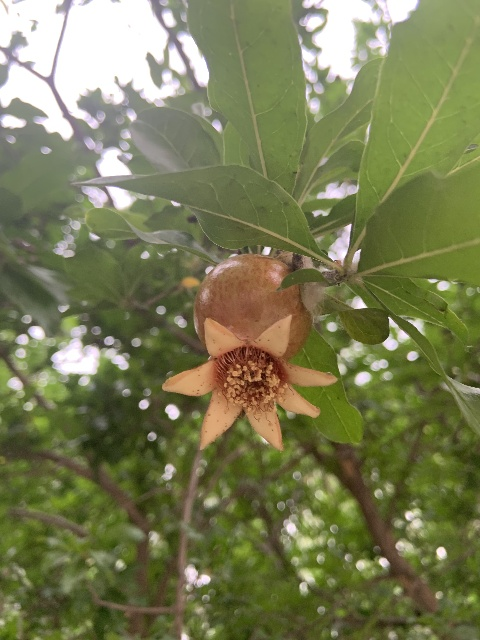early-fruit: (160, 253, 338, 454)
